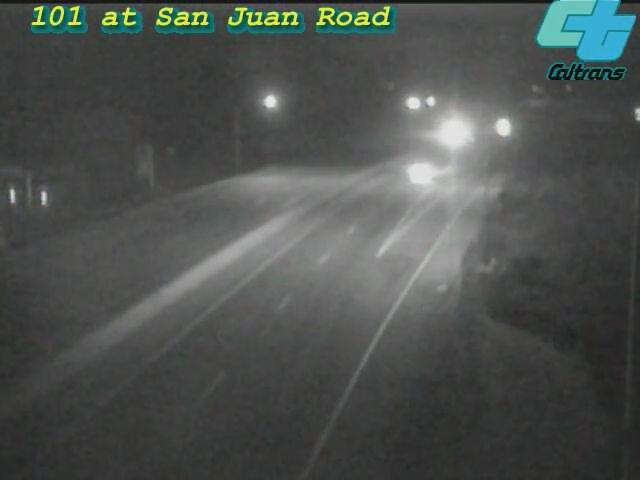vehicle: (374, 139, 454, 219), (435, 106, 485, 156), (481, 102, 531, 152)
